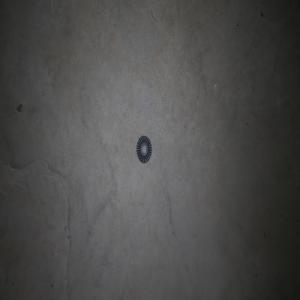Washer: (136, 135, 151, 163)
